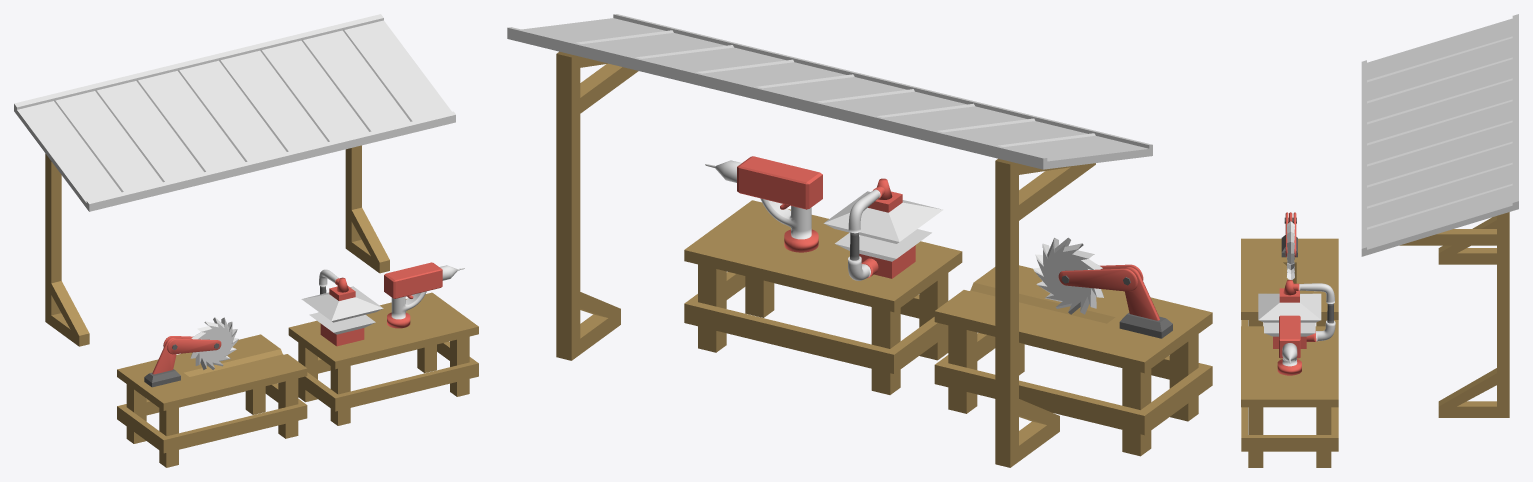
The model's file is Workshop.fbx.
The picture shows the model from 3 angles, left to right: view 1: azimuth 30°, elevation 25°; view 2: azimuth 150°, elevation 25°; view 3: azimuth 270°, elevation 25°; orthographic projection. The views are drawn at different scales.
Visible parts, largest first — view 1: Cube.003, Cube, Cube.015, Cube.002, Cube.001, Cube.013; view 2: Cube.003, Cube.015, Cube, Cube.002, Cube.001, Cube.013; view 3: Cube.003, Cube.015, Cube, Cube.002, Cube.013, Cube.001.
Boxes of the visible parts, x1=… form: Cube.003: x1=14, y1=14, x2=455, y2=346; Cube: x1=117, y1=334, x2=307, y2=467; Cube.015: x1=288, y1=292, x2=478, y2=425; Cube.002: x1=301, y1=269, x2=383, y2=346; Cube.001: x1=144, y1=317, x2=238, y2=387; Cube.013: x1=384, y1=262, x2=464, y2=328; Cube.003: x1=507, y1=14, x2=1152, y2=467; Cube.015: x1=684, y1=200, x2=962, y2=394; Cube: x1=934, y1=265, x2=1212, y2=456; Cube.002: x1=823, y1=178, x2=943, y2=280; Cube.001: x1=1033, y1=237, x2=1172, y2=338; Cube.013: x1=705, y1=156, x2=822, y2=252; Cube.003: x1=1361, y1=14, x2=1518, y2=417; Cube.015: x1=1241, y1=326, x2=1338, y2=467; Cube: x1=1241, y1=238, x2=1338, y2=326; Cube.002: x1=1258, y1=279, x2=1335, y2=348; Cube.013: x1=1277, y1=315, x2=1301, y2=375; Cube.001: x1=1281, y1=212, x2=1297, y2=279.
Bounding box in the file's own units: 3534 × 2533 × 2216.
